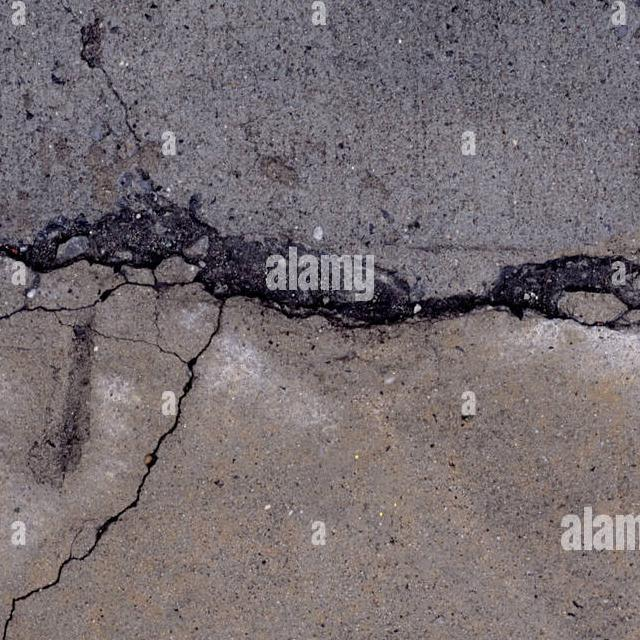retak_memanjang: (0, 262, 221, 640), (371, 121, 640, 401), (0, 161, 266, 367), (0, 0, 198, 180)
